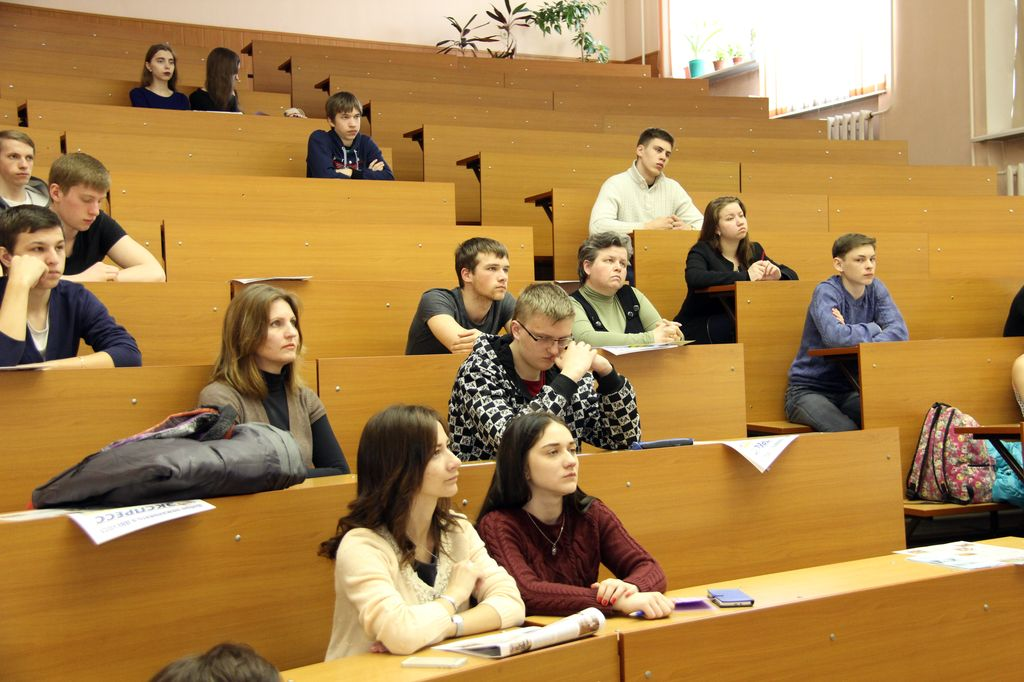students: (325, 402, 526, 663), (475, 412, 676, 621), (446, 281, 642, 463), (783, 233, 911, 433), (219, 282, 350, 474), (1, 203, 145, 369), (675, 194, 801, 337), (47, 151, 168, 286), (554, 229, 687, 348), (405, 236, 523, 355), (588, 125, 710, 236), (306, 90, 395, 178), (125, 42, 193, 110), (1, 126, 50, 208), (189, 44, 245, 112)
